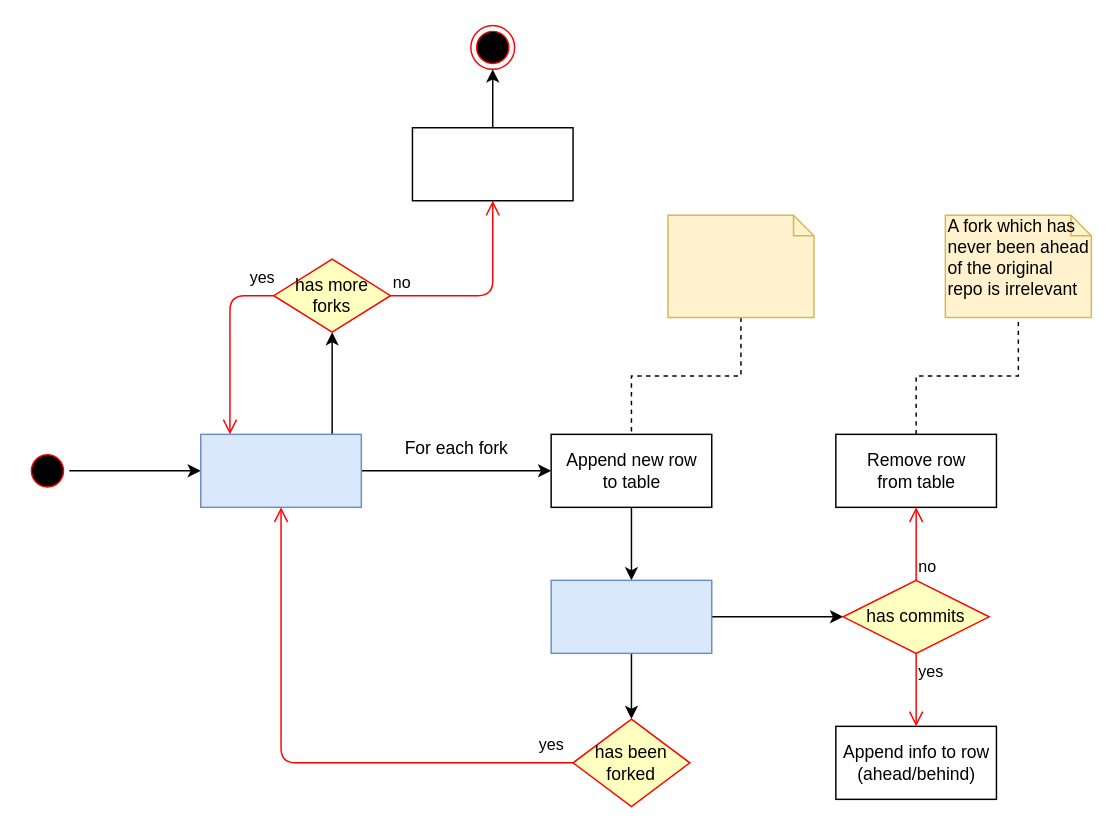
The diagram is 1117 pixels wide and 832 high, and some of its shapes have lost their labels. The shapes that lost their labels are listed below. From the top down, each one's centre as x and y in pixels, then its label:
At (492,163): "Wait for all queries to finish".
At (740,266): "Appended pre-emptively for faster feedback of activity to user".
At (280,470): "Query next 100 forks".
At (631,616): "Query commit diff (ahead/behind)".
